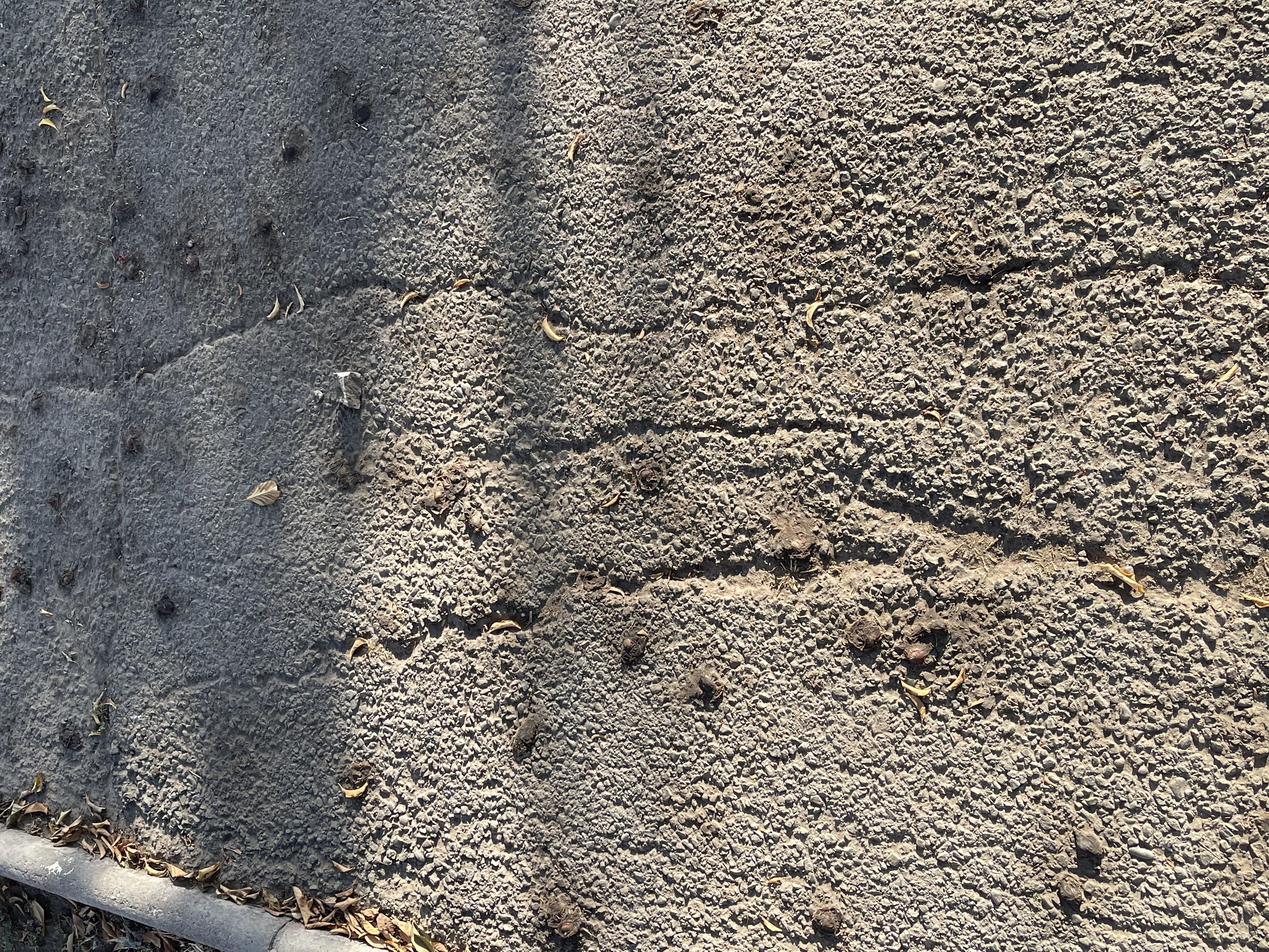GRIETA: (358, 538, 1269, 662), (0, 272, 692, 400), (820, 253, 1269, 316), (534, 417, 845, 460)
